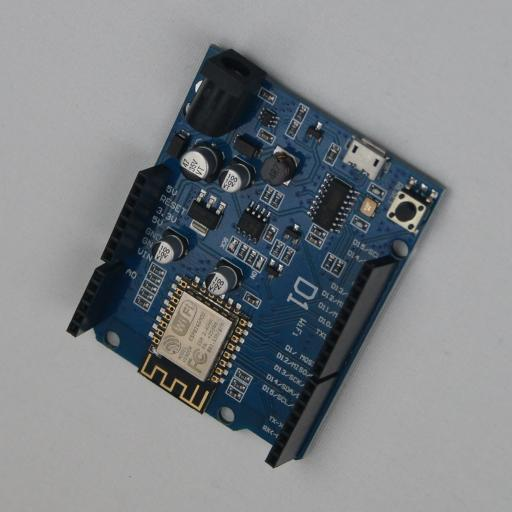Arduino Uno WiFi Shield: (66, 44, 446, 468)
